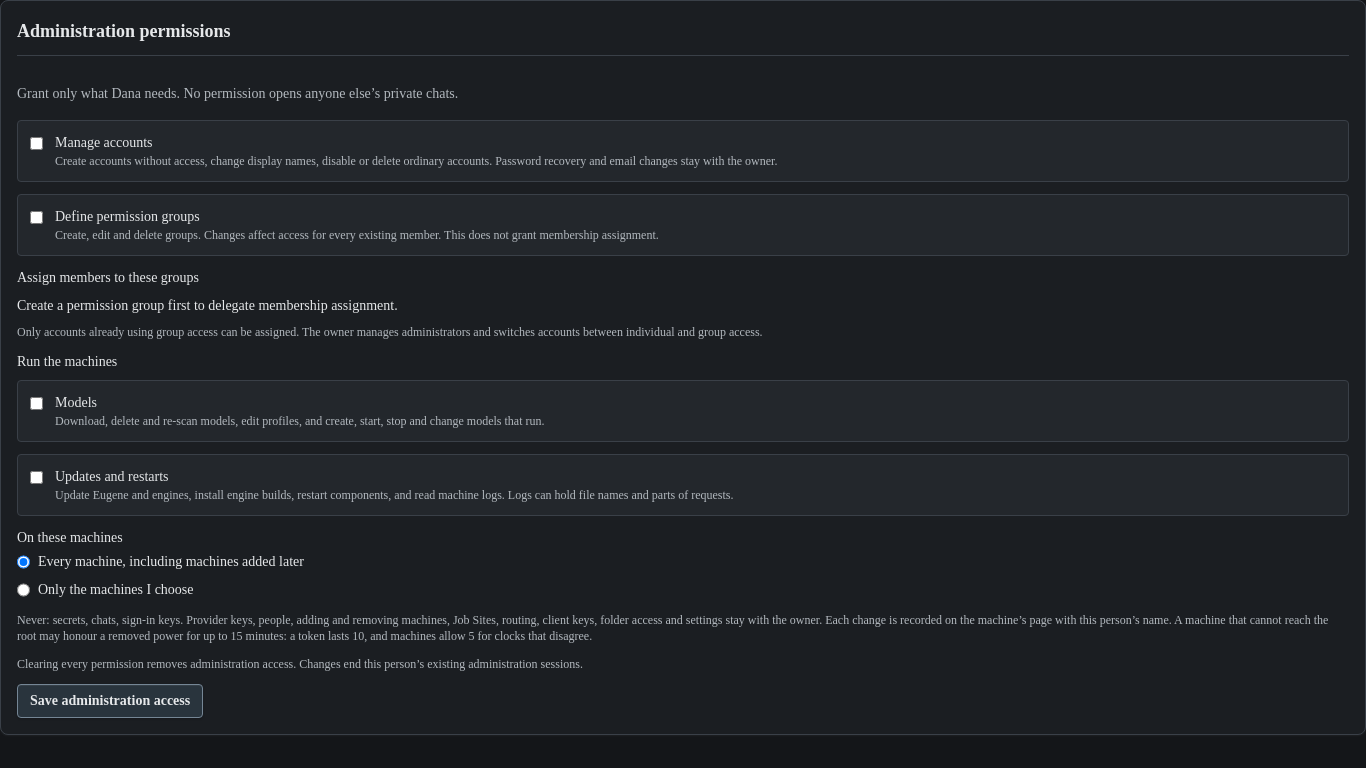
Test: gives operations powers on chosen machines and says what never comes with them
The image size is (1366, 768).
Expected: the text "read machine logs" is shown, x1=55 y1=488 x2=734 y2=502
Expected: the text "up to 15 minutes" is shown, x1=17 y1=613 x2=1328 y2=643
Click the checkbox labelled "Models".
click(36, 404)  # box x1=30 y1=397 x2=43 y2=410
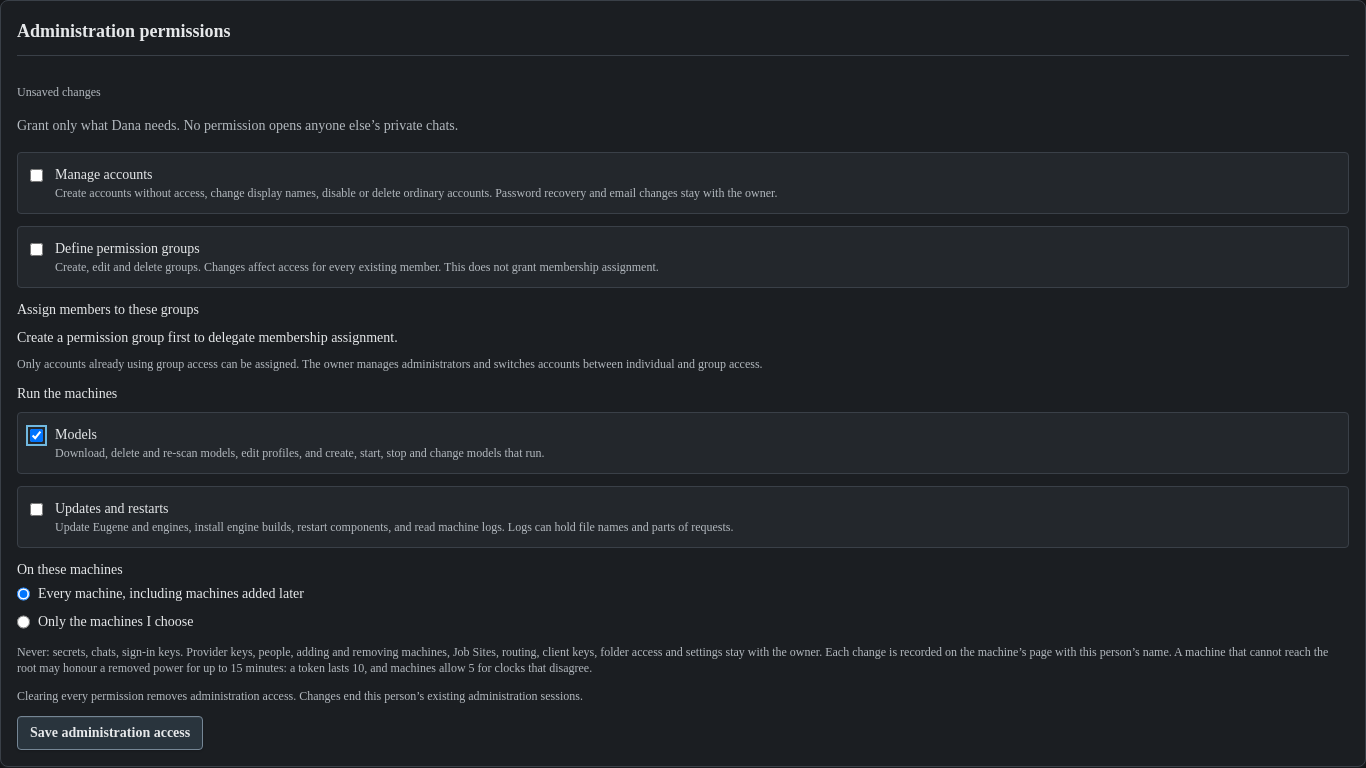
Click the radio button labelled "Only the machines I choose".
click(24, 622)  # box x1=17 y1=612 x2=30 y2=632
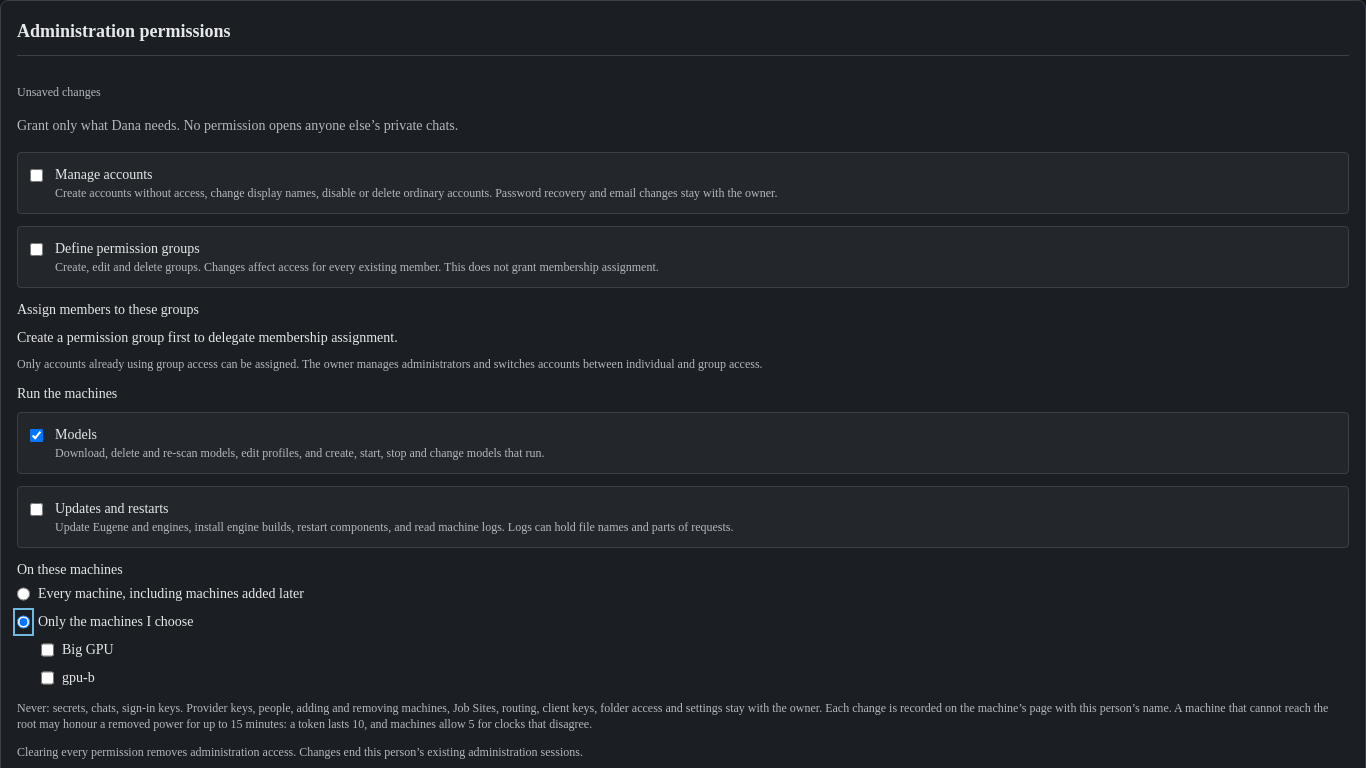
Click the checkbox named "Allow running Big GPU".
click(48, 650)  # box x1=41 y1=640 x2=54 y2=660
(page scrolled)
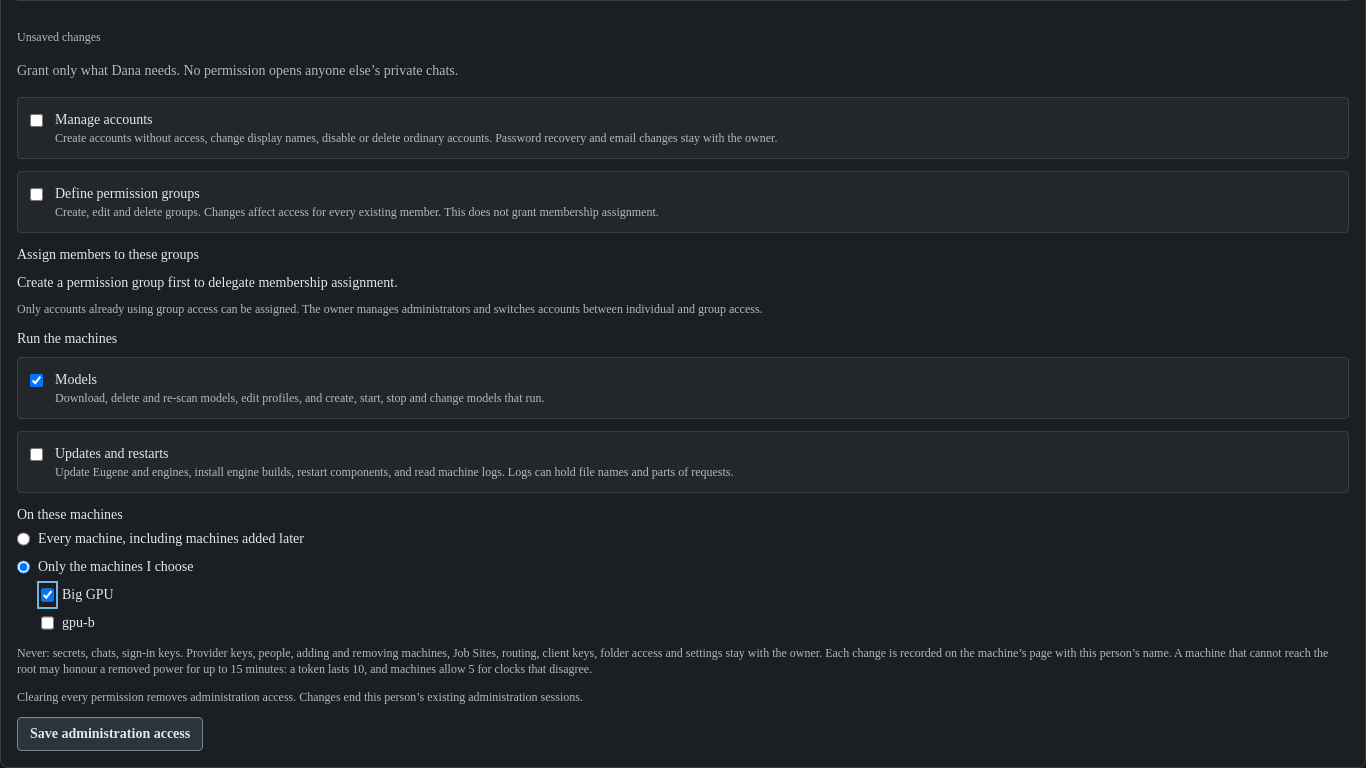
Click the button "Save administration access".
click(110, 734)  # box x1=17 y1=717 x2=203 y2=751
(page scrolled)
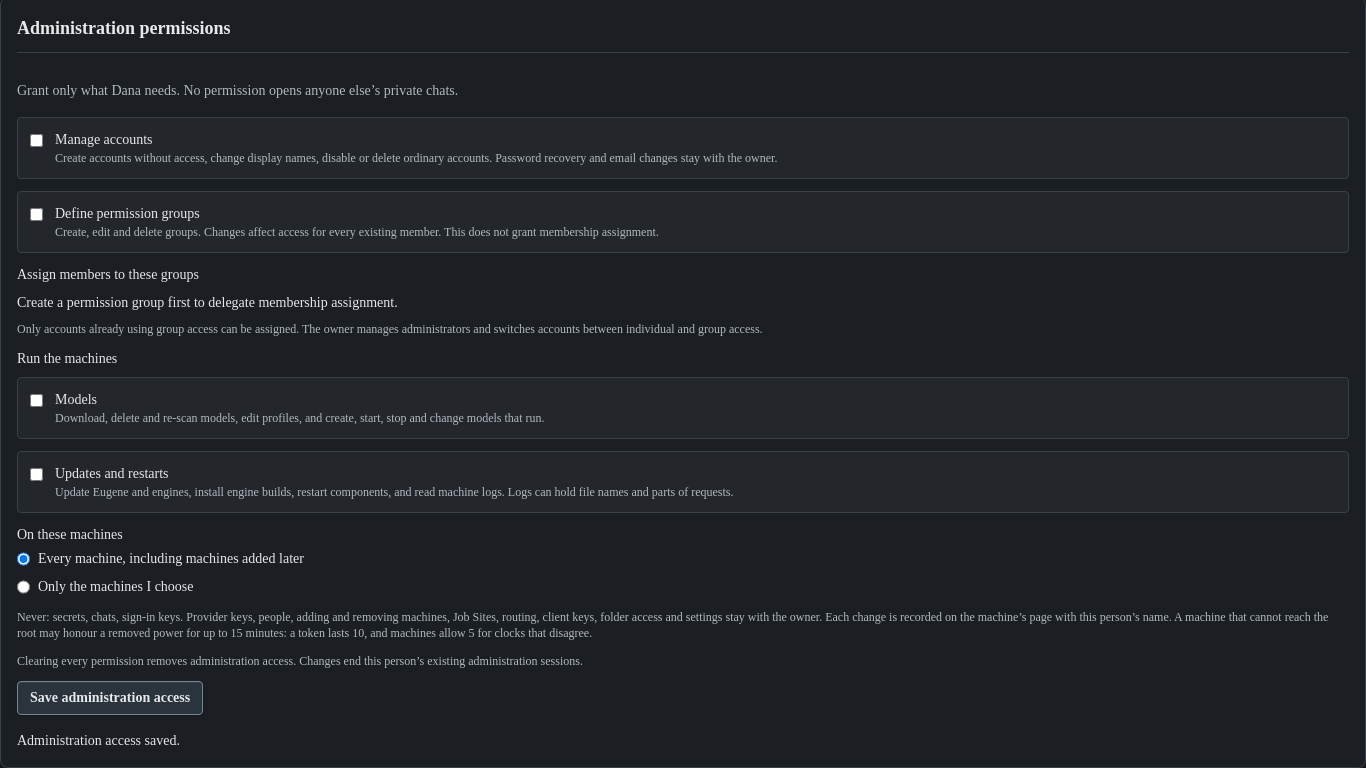
Expected: the text "Administration access saved." is shown, x1=17 y1=733 x2=180 y2=748
